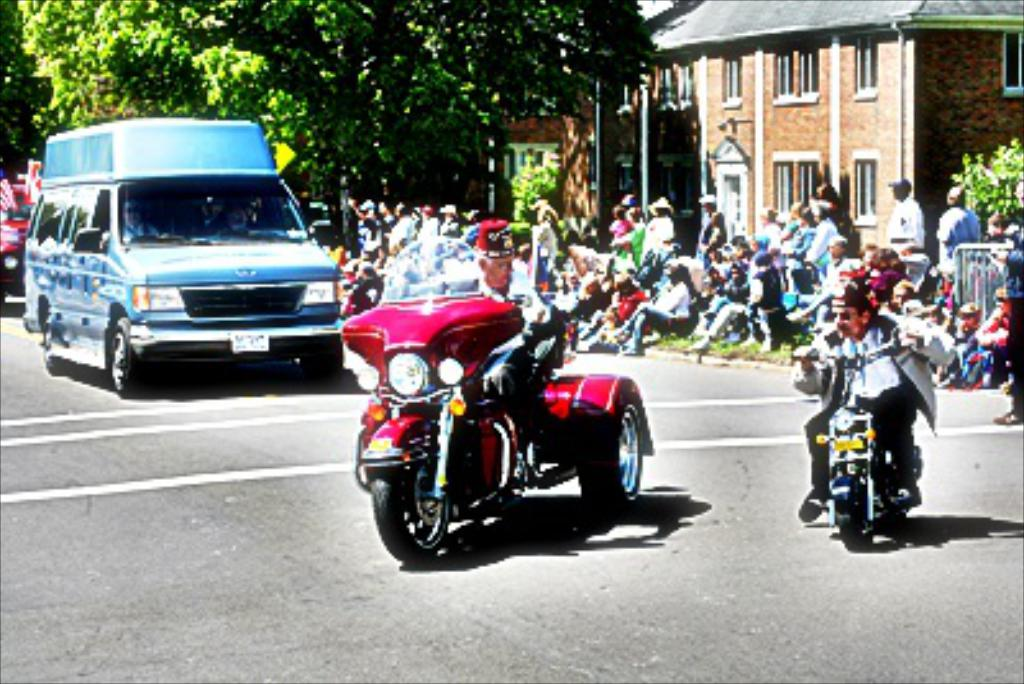Motorcycle: (332, 230, 655, 568), (801, 340, 931, 540)
